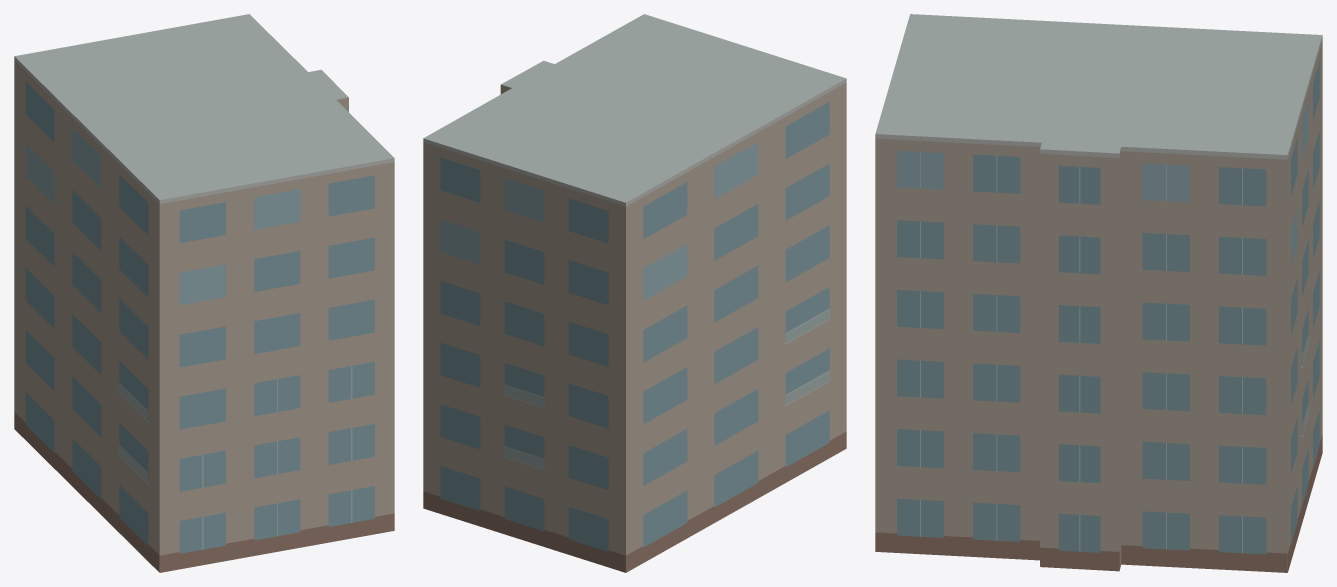
Rendered from survey-upis-32828008.glb.
The picture shows the model from 3 angles, left to right: view 1: azimuth 30°, elevation 25°; view 2: azimuth 150°, elevation 25°; view 3: azimuth 270°, elevation 25°; orthographic projection. The views are drawn at different scales.
Parts seen in each view (by area): view 1: survey-upis-32828008.tmp; view 2: survey-upis-32828008.tmp; view 3: survey-upis-32828008.tmp.
Part boxes in pixels (<box>): survey-upis-32828008.tmp: <box>14,14,394,572</box>; survey-upis-32828008.tmp: <box>423,14,846,572</box>; survey-upis-32828008.tmp: <box>875,14,1322,572</box>.
Size of the model in its own units: 16.67 by 22.99 by 22.32.
